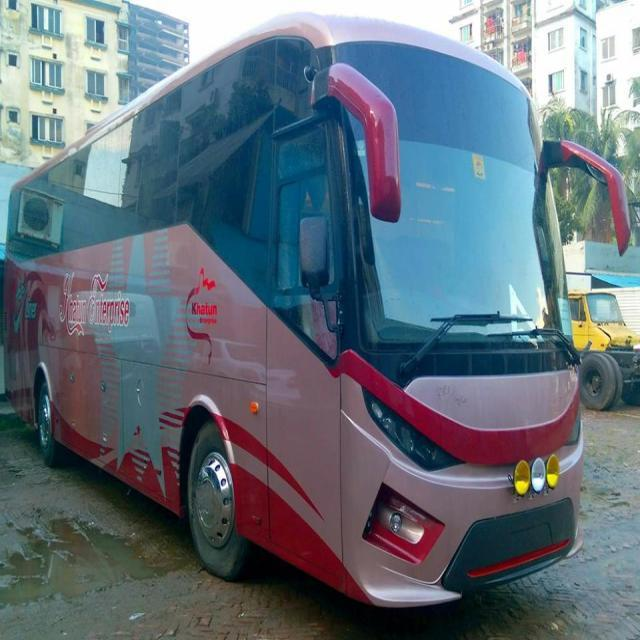bus: (0, 12, 634, 615)
